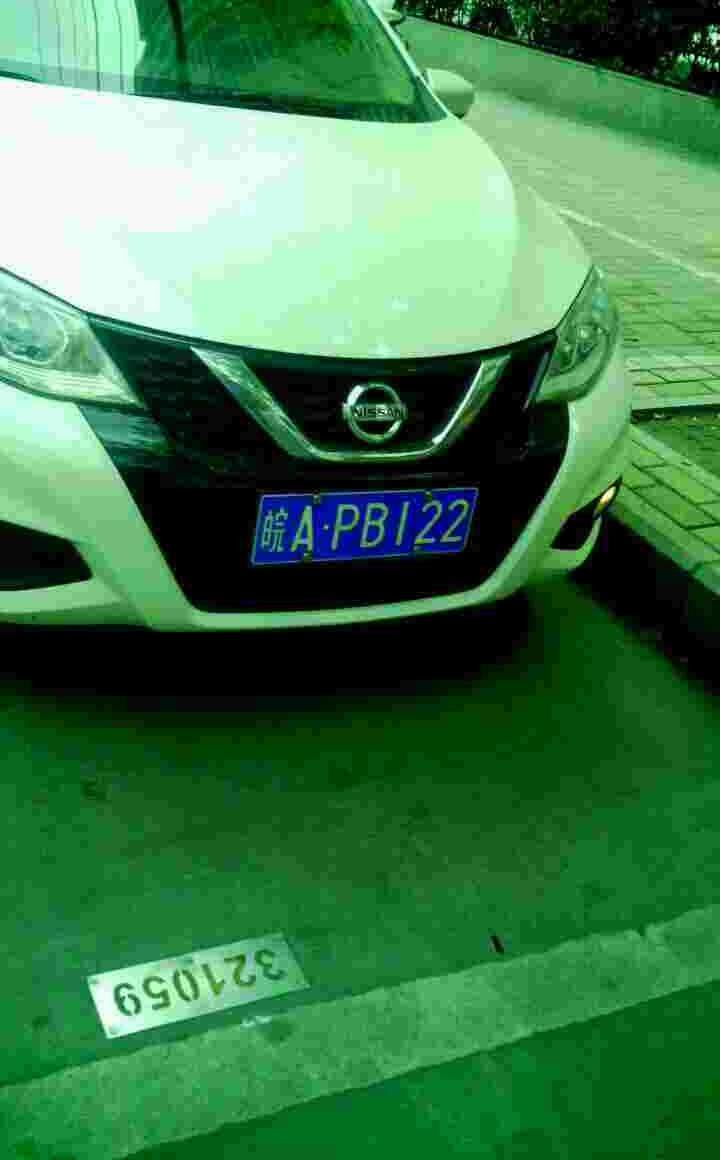license_plate: (249, 488, 484, 574)
